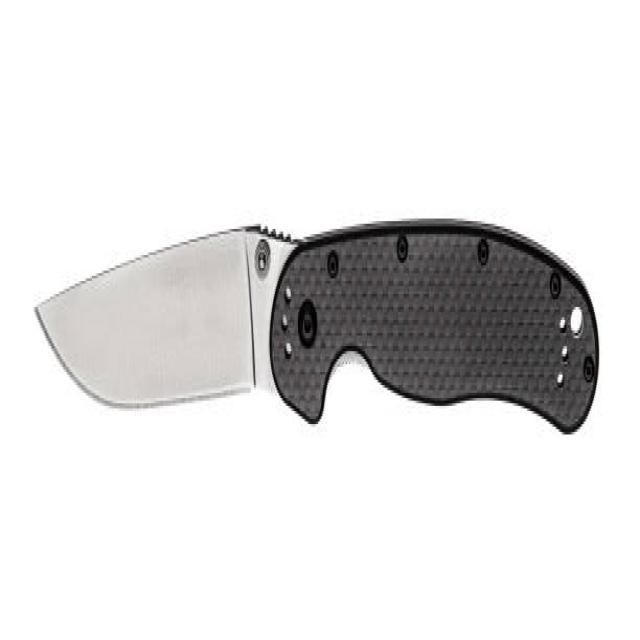knife: (28, 194, 606, 496)
